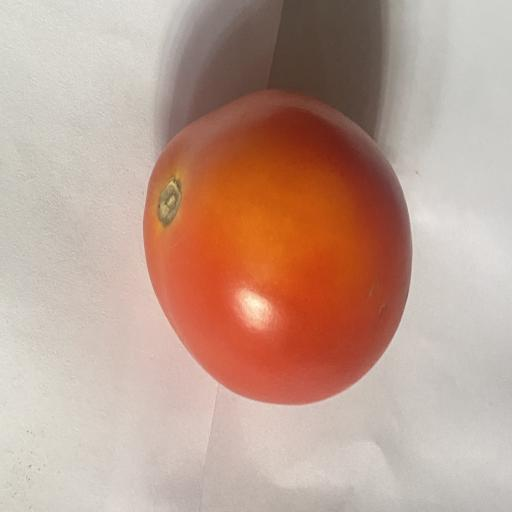ripe: (143, 91, 412, 403)
